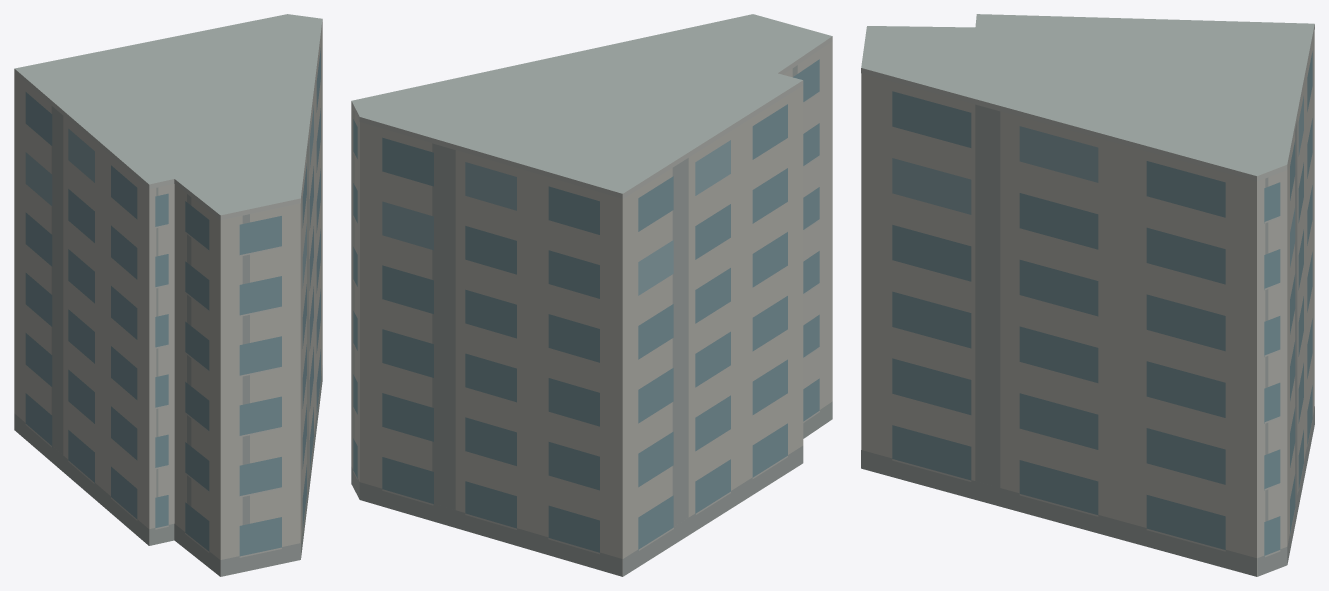
Rendered from survey-upis-32972345.glb.
3 renders of one model, left to right at view 1: azimuth 30°, elevation 25°; view 2: azimuth 150°, elevation 25°; view 3: azimuth 270°, elevation 25°, orthographic. The views are drawn at different scales.
Parts seen in each view (by area): view 1: survey-upis-32972345.tmp; view 2: survey-upis-32972345.tmp; view 3: survey-upis-32972345.tmp.
Part boxes in pixels (x1,y1,x2,y2): survey-upis-32972345.tmp: (14,14,322,576); survey-upis-32972345.tmp: (351,14,832,576); survey-upis-32972345.tmp: (861,14,1314,576).
Size of the model in its own units: 15.55 by 17.9 by 18.38.
